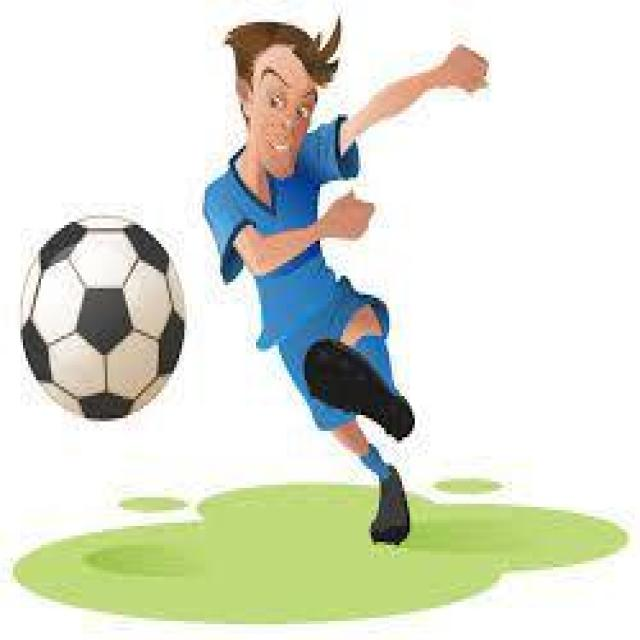Soccer Ball: (18, 209, 187, 421)
